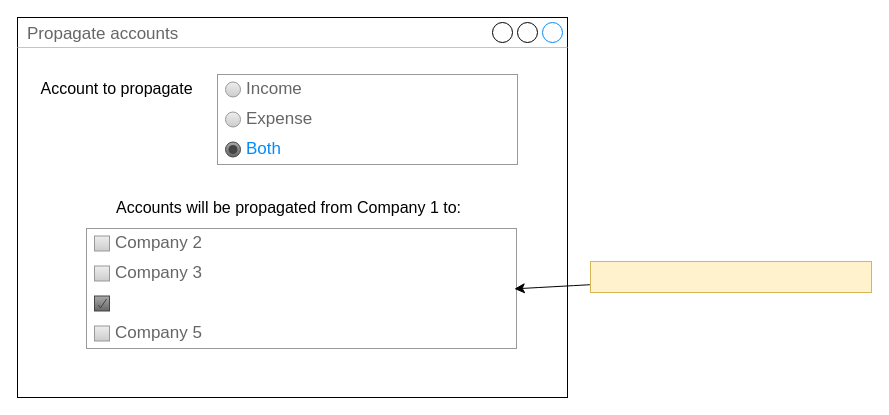
This 889x415 diagram has some shape labels left out. The shapes that lost their labels are listed below. From the top down, each one's box as (x1, y1, x2, y2) in pixels, then its label:
(590, 260, 872, 292): Only those where the user has acces
(94, 295, 110, 311): Company 4
